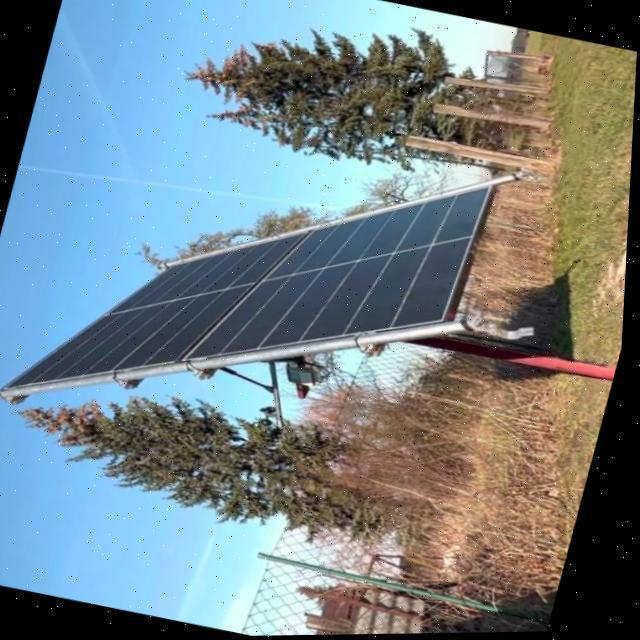Normal Solar Panel: (4, 95, 498, 478)
